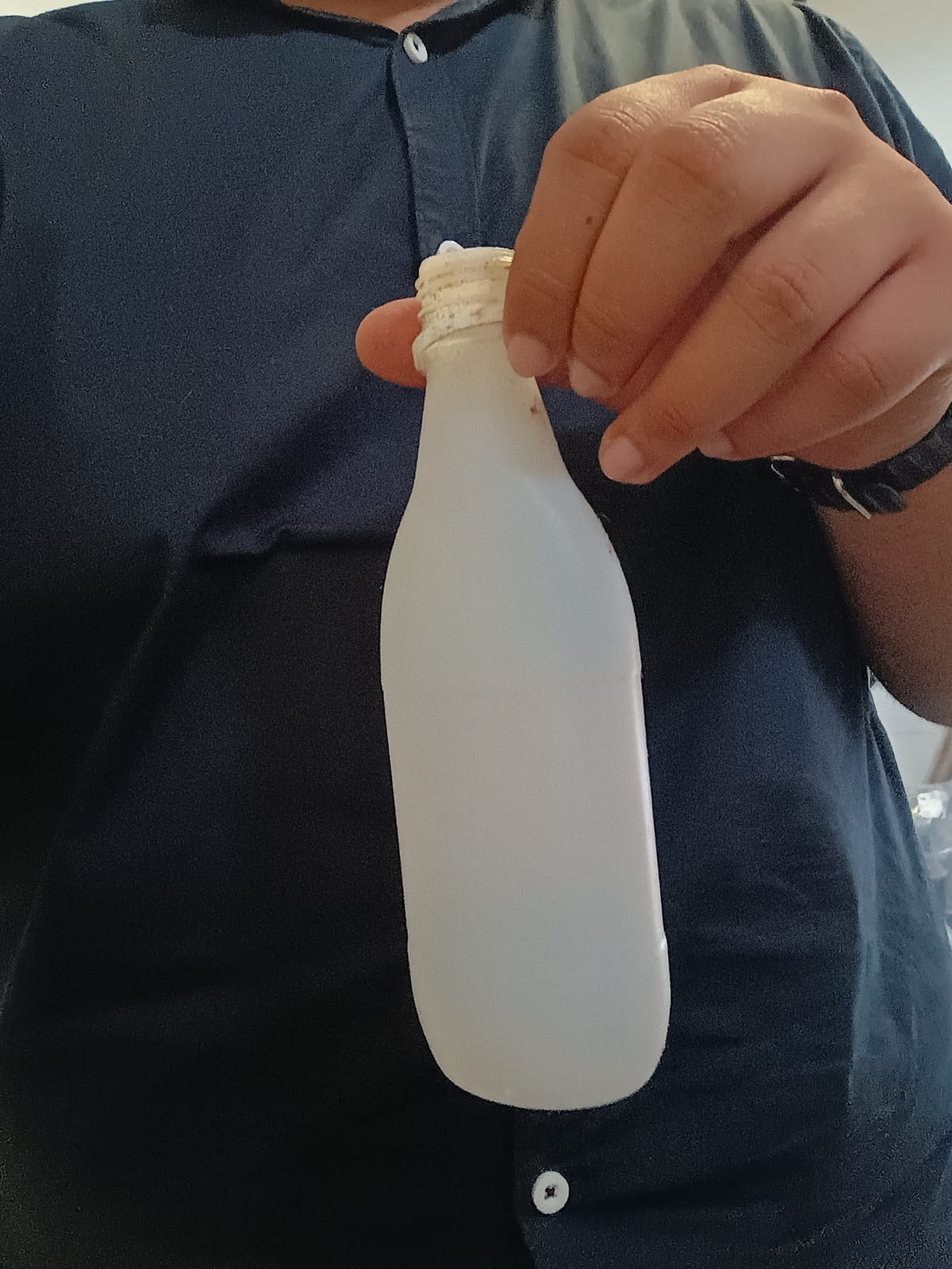Plastico: (379, 239, 673, 1108)
